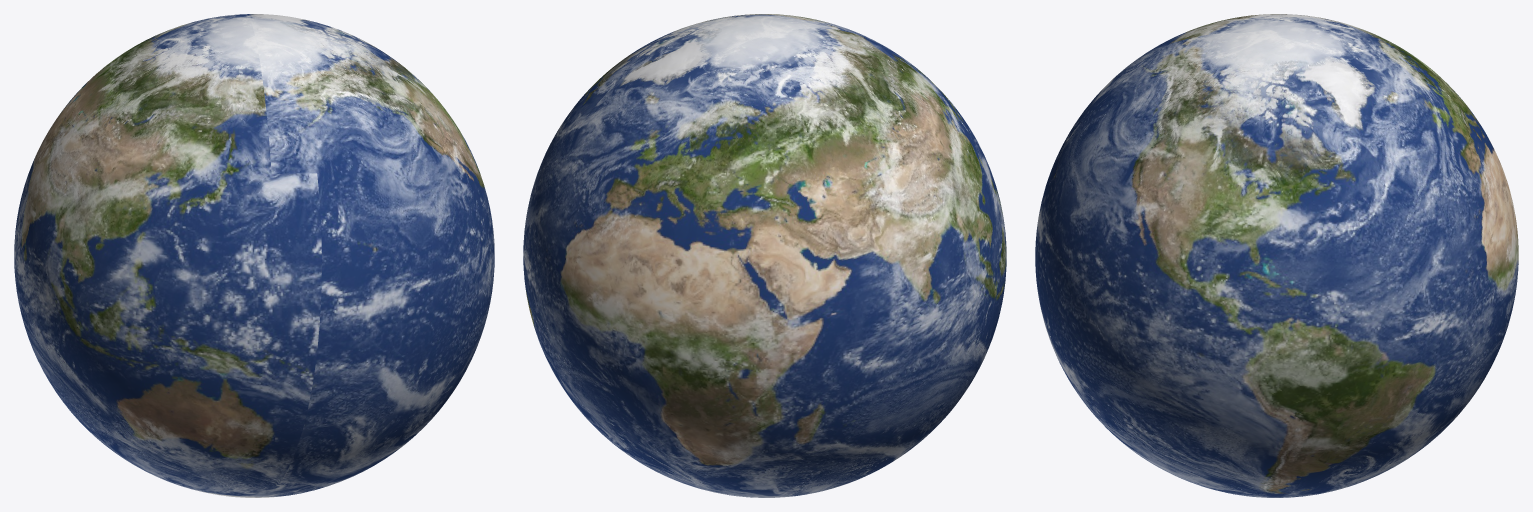
The model's file is earth.obj.
3 renders of one model, left to right at view 1: azimuth 30°, elevation 25°; view 2: azimuth 150°, elevation 25°; view 3: azimuth 270°, elevation 25°, orthographic.
Parts seen in each view (by area): view 1: Earth_Sphere; view 2: Earth_Sphere; view 3: Earth_Sphere.
Part boxes in pixels (<box>): Earth_Sphere: <box>14,14,494,497</box>; Earth_Sphere: <box>523,14,1006,497</box>; Earth_Sphere: <box>1035,14,1518,497</box>.
Bounding box in the file's own units: 3.88 × 3.9 × 3.89.
